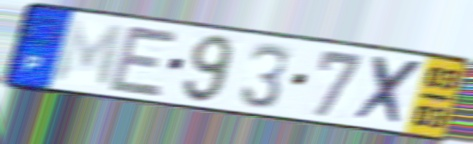3: (240, 40, 290, 111)
7: (314, 46, 367, 120)
9: (180, 32, 238, 105)
E: (105, 22, 183, 100)
M: (50, 17, 127, 91)
X: (350, 53, 428, 129)
